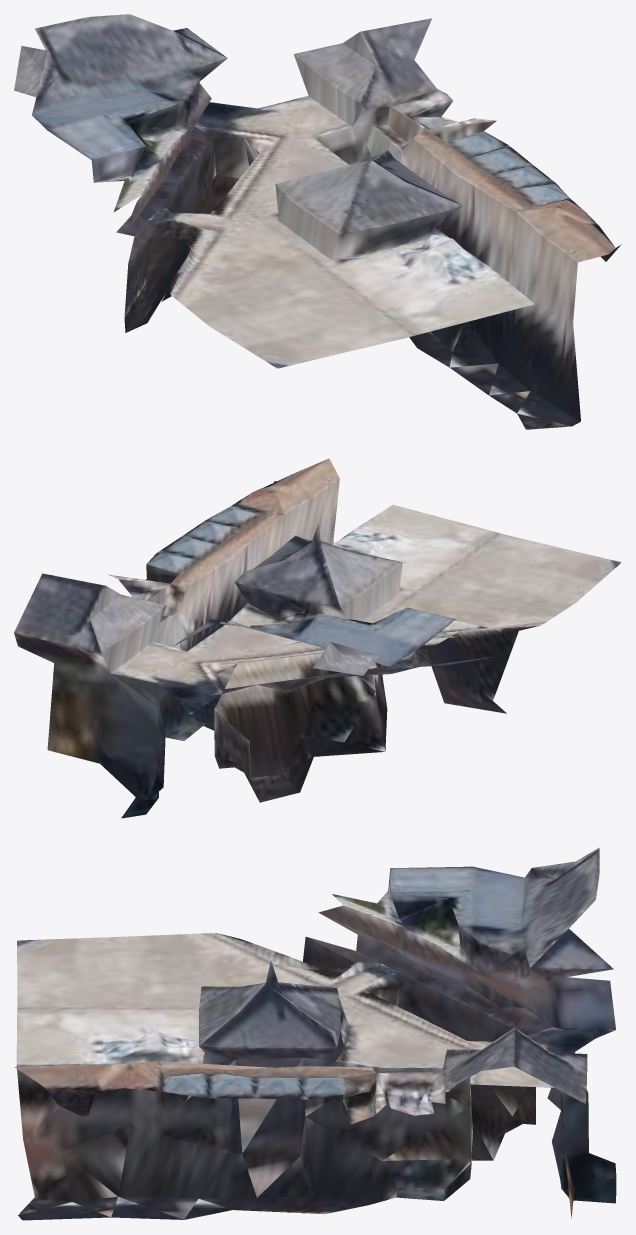
The model's file is Tile_+000_+002_L16_0.glb.
3 renders of one model, top to bottom at view 1: azimuth 30°, elevation 25°; view 2: azimuth 150°, elevation 25°; view 3: azimuth 270°, elevation 25°, orthographic. The views are drawn at different scales.
Visible parts, largest first — view 1: rtc; view 2: rtc; view 3: rtc.
Boxes of the visible parts, x1,y1,x2,y2 form: rtc: [14, 14, 621, 429]; rtc: [14, 458, 621, 818]; rtc: [14, 847, 616, 1220].
Bounding box in the file's own units: 48.38 × 28.01 × 60.78.
1 material, 1 textured.
